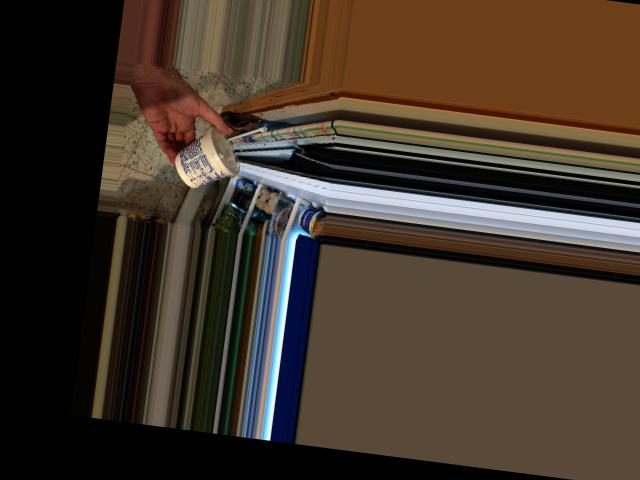cotage: (170, 117, 241, 186)
